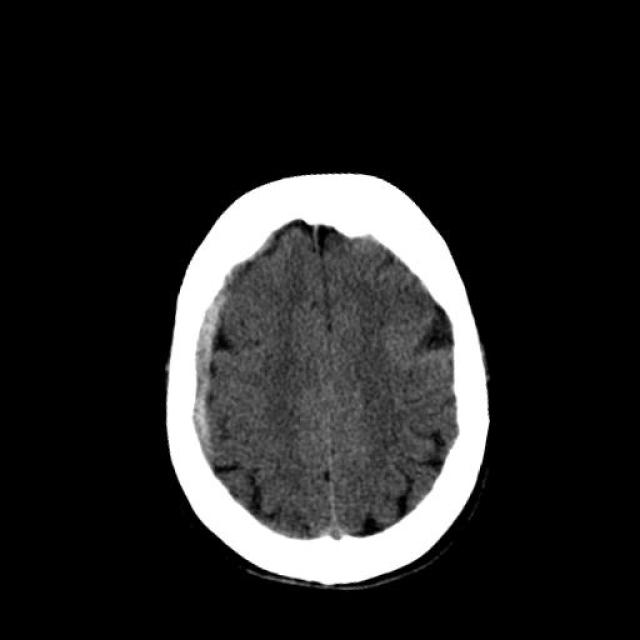Subdural: (154, 232, 270, 466)
